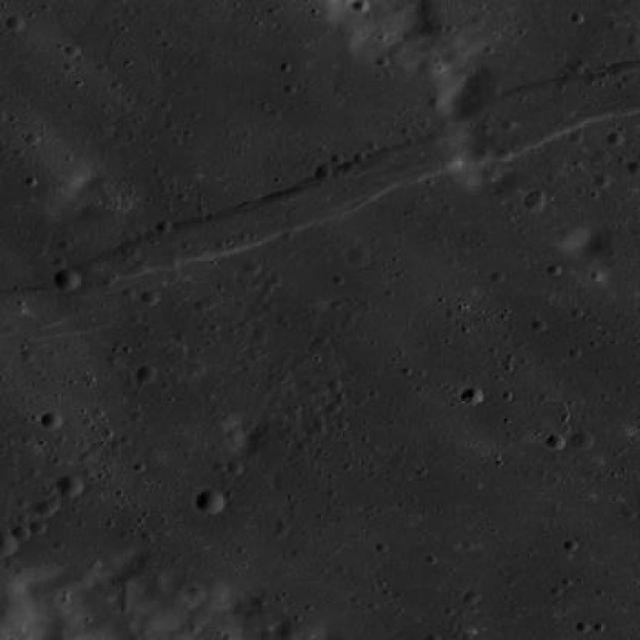crater: (0, 590, 35, 632), (196, 489, 224, 514), (346, 244, 374, 267), (55, 476, 83, 499), (54, 269, 80, 291), (274, 620, 302, 640), (0, 530, 18, 558), (570, 431, 592, 451), (523, 192, 545, 211), (460, 387, 482, 405), (41, 412, 61, 430), (136, 366, 156, 383), (546, 433, 566, 450), (36, 502, 56, 518), (187, 585, 206, 601)
